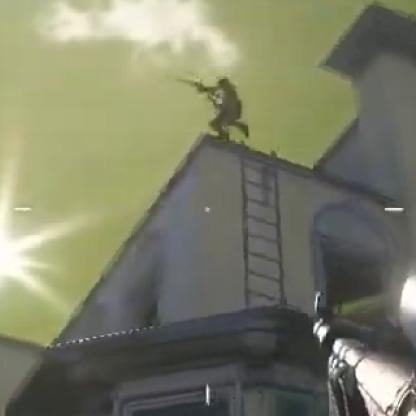enemy: (196, 73, 252, 144)
